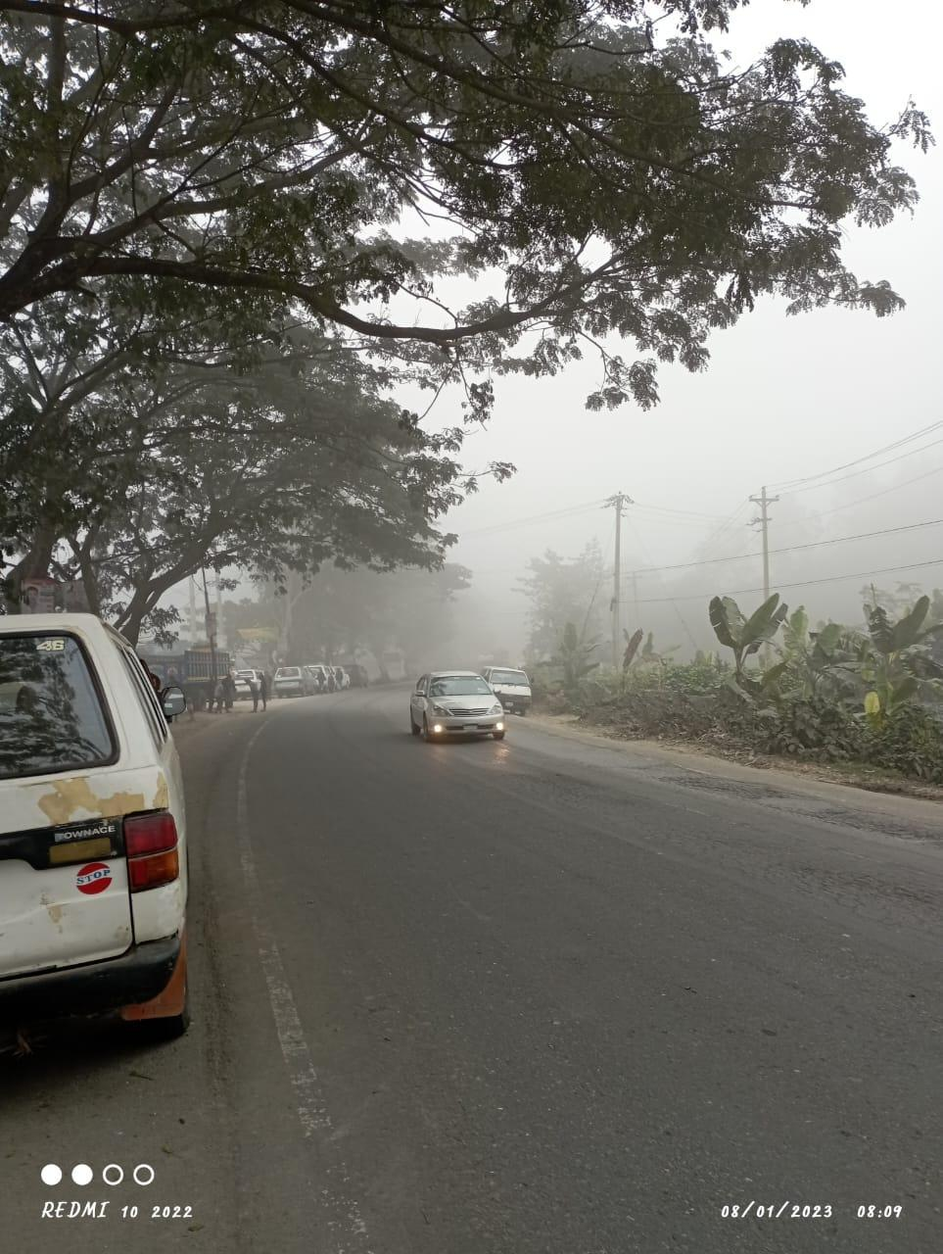Car: (2, 576, 194, 1061), (409, 659, 511, 756), (487, 658, 546, 717), (268, 654, 321, 701)
